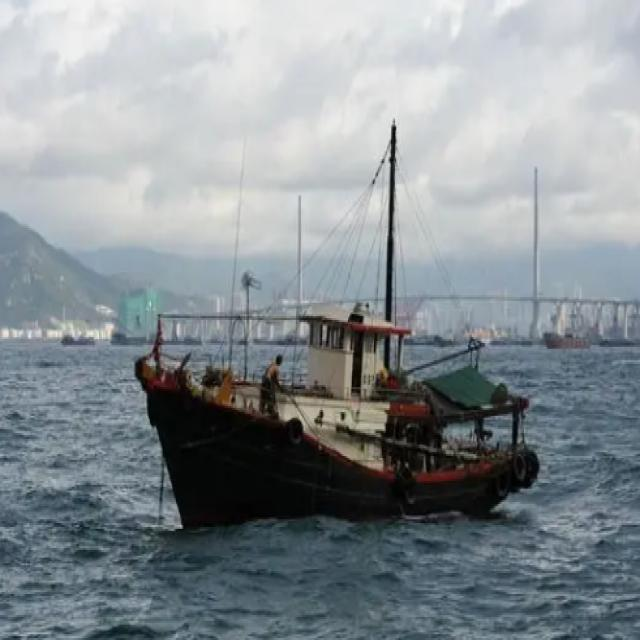fishing boat: (132, 183, 535, 526)
